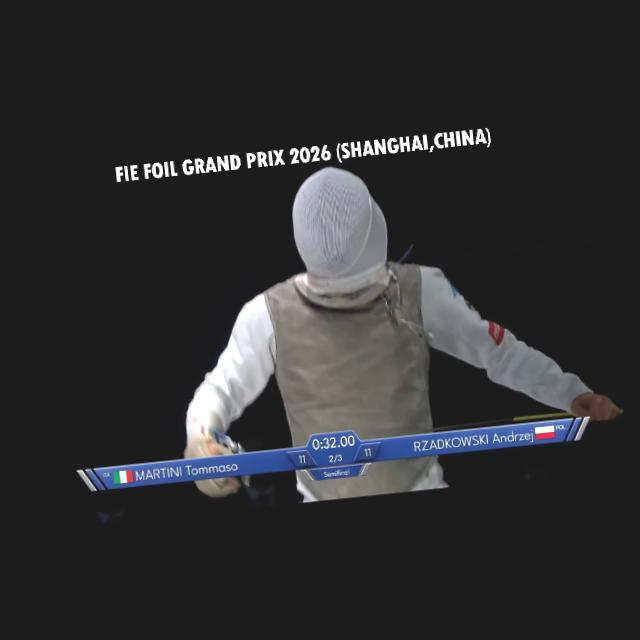blade: (190, 476, 248, 496)
